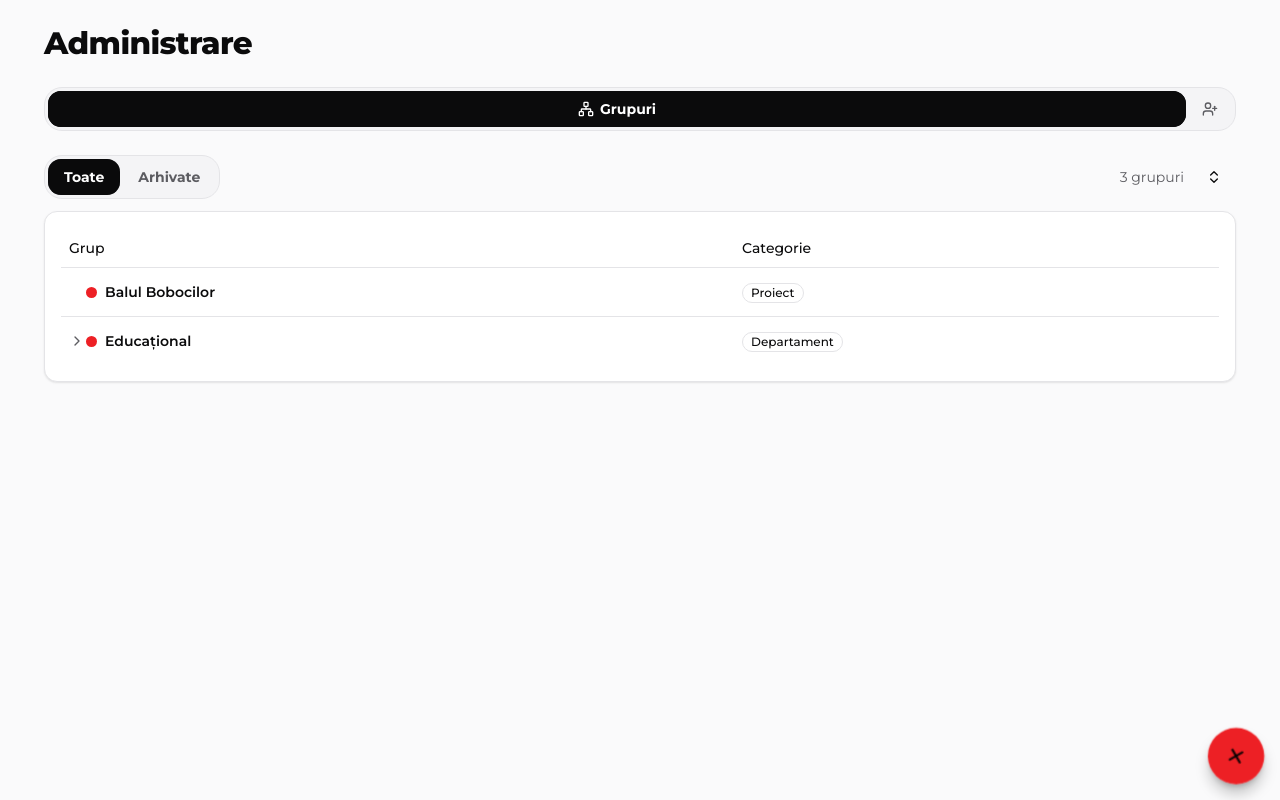
Scenario: drops Departament from the categories once a parent Group is chosen (Alex, 2026-10-11)
Click the button named "Creează Grup".
click(1236, 756)  # box [1207, 727, 1265, 785]
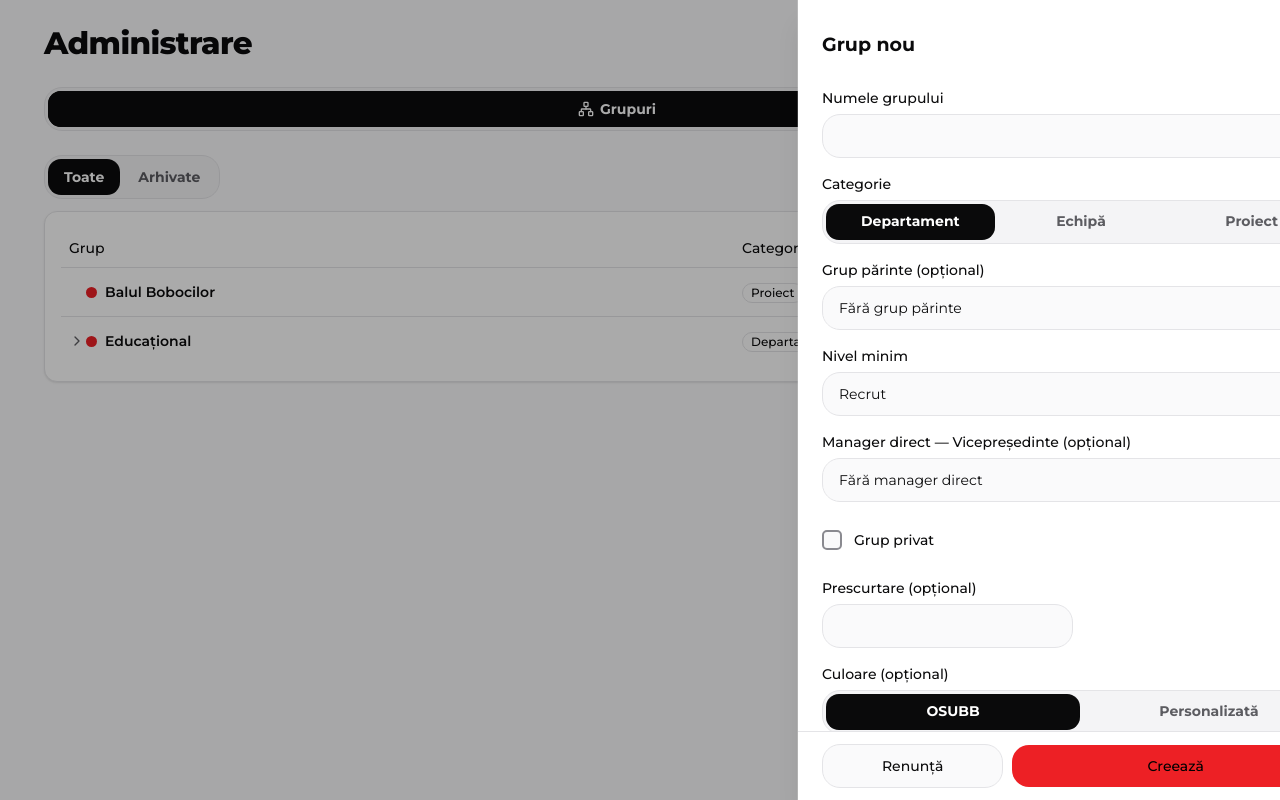
Check: the radio button labelled "Departament" is checked, box [736, 204, 905, 240]
Click the dropdown named "Grup părinte (opțional)".
click(810, 308)  # box [732, 286, 1250, 330]
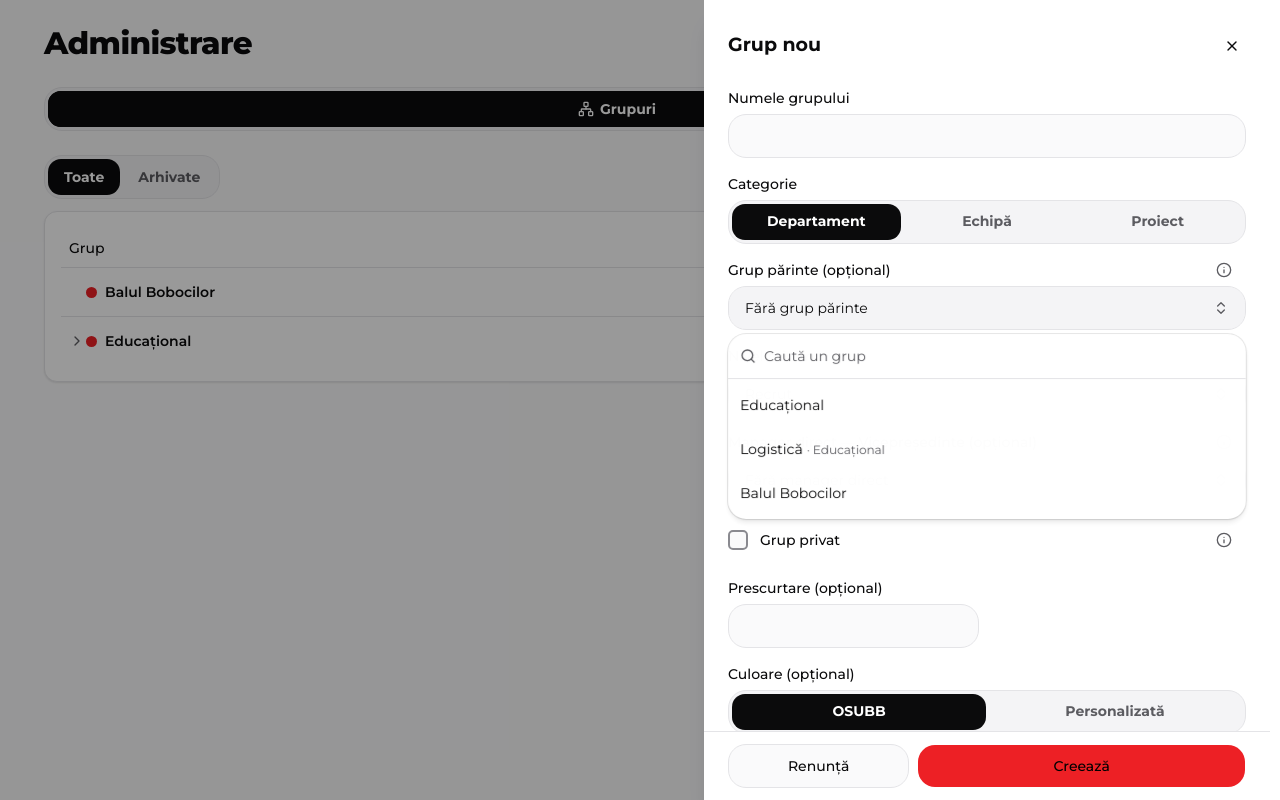
Click the option "Educațional".
click(782, 405)  # box [740, 396, 824, 414]
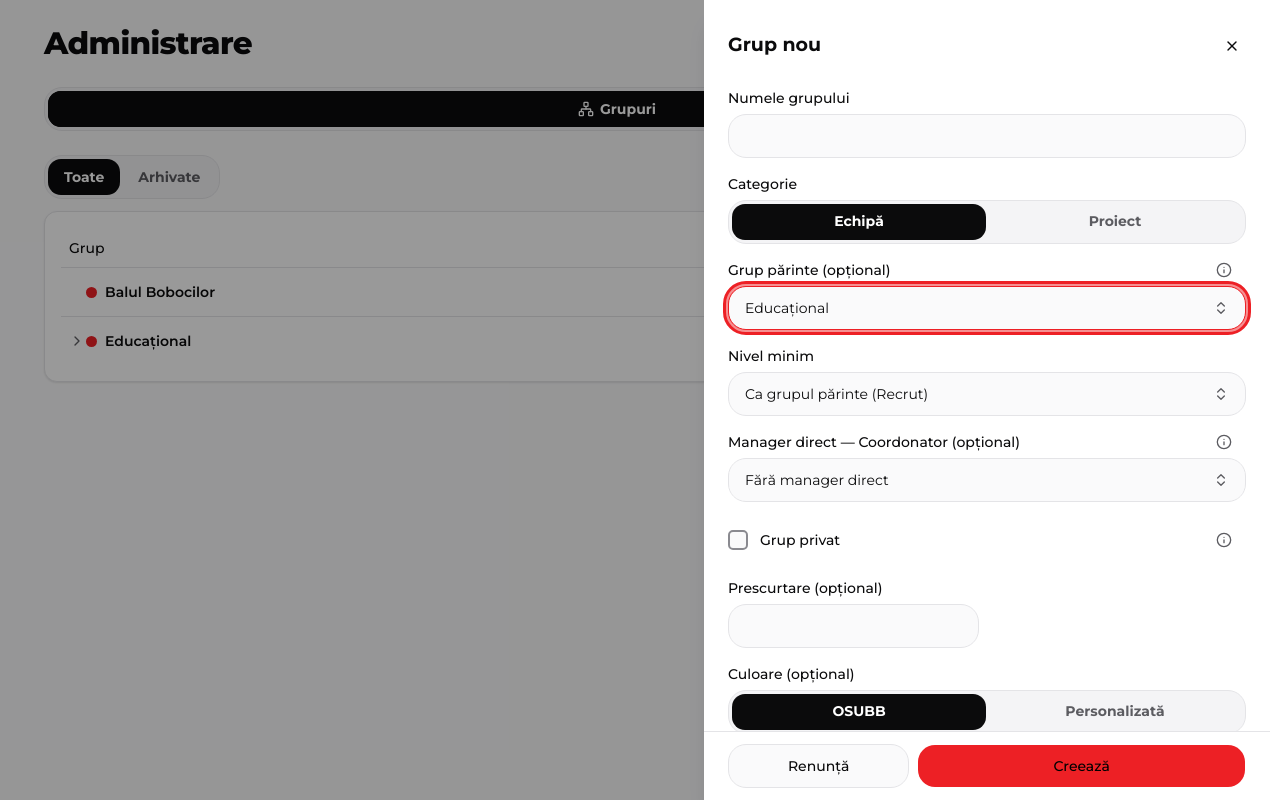
Check: the radio buttons read "Echipă", "Proiect", in this order, box [834, 212, 884, 230]; [1089, 212, 1141, 230]
Check: the radio button labelled "Echipă" is checked, box [834, 212, 884, 230]
